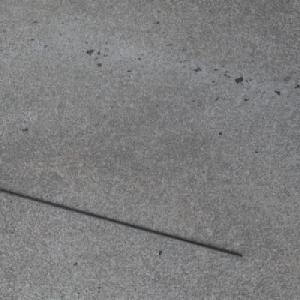LuggagePart: (0, 187, 243, 258)
